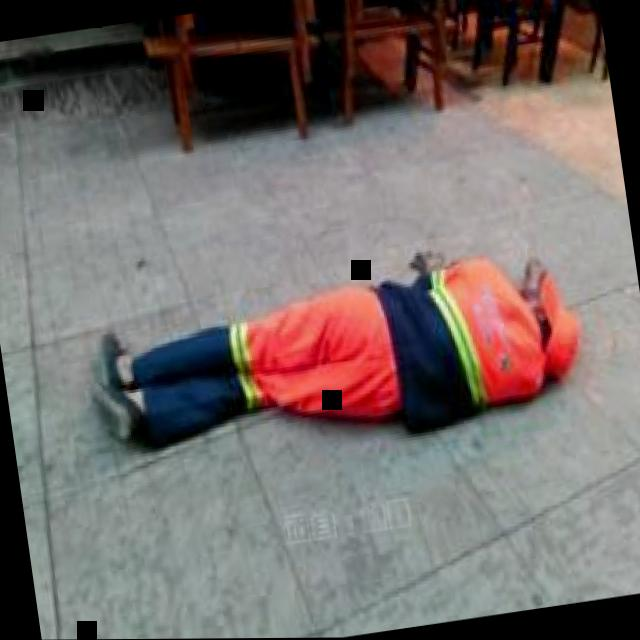Fall-Detected: (73, 205, 597, 487)
